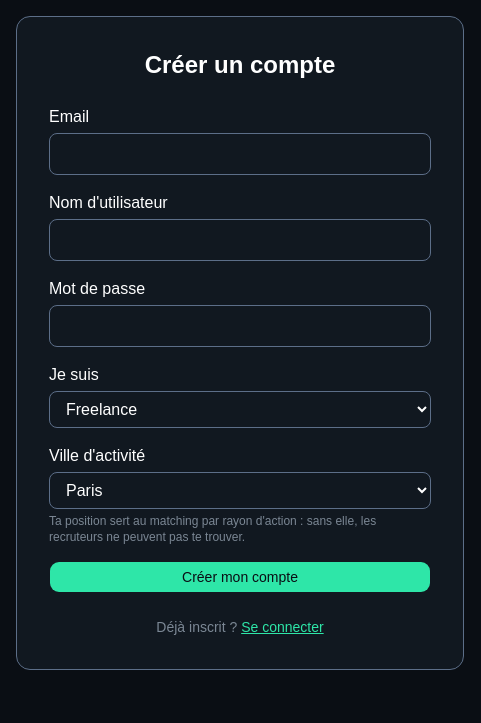
it: Écran d'inscription (SH-20) › affiche une erreur générique quand l'inscription échoue, sans tenter de login
The width and height of the screenshot is (481, 723).
In the field labelled "Email": (240, 154) 49,133 -> 431,175, type "nouvelle@skillhunt.io"
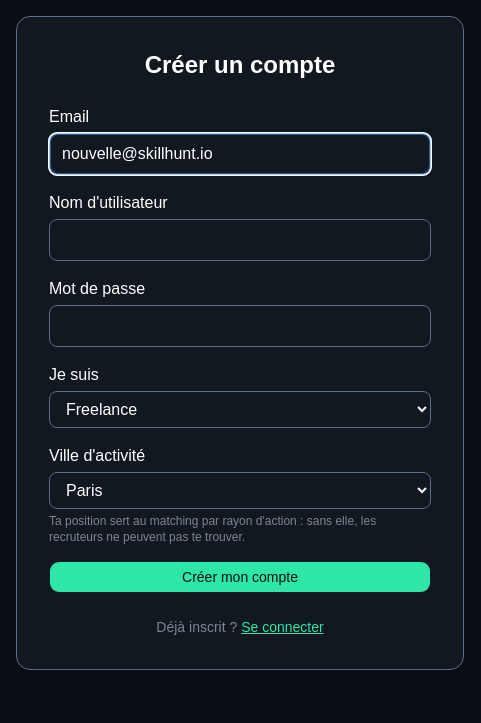
In the field labelled "Nom d'utilisateur": (240, 240) 49,219 -> 431,261, type "nouvelle-pilote"
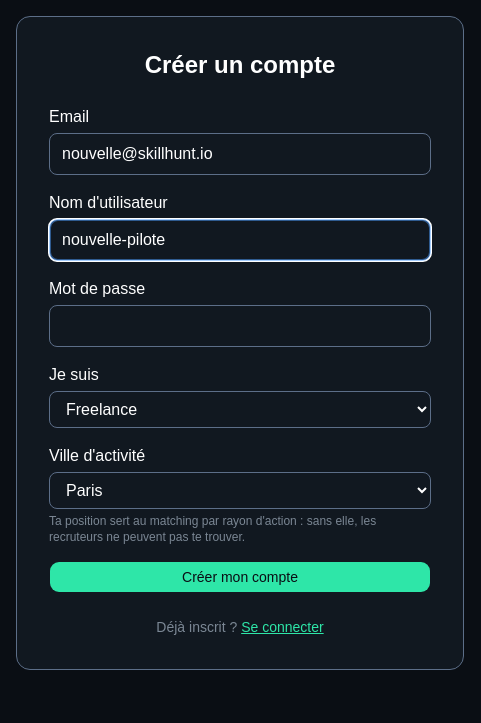
In the password field labelled "Mot de passe": (240, 326) 49,305 -> 431,347, type "motdepasse8"
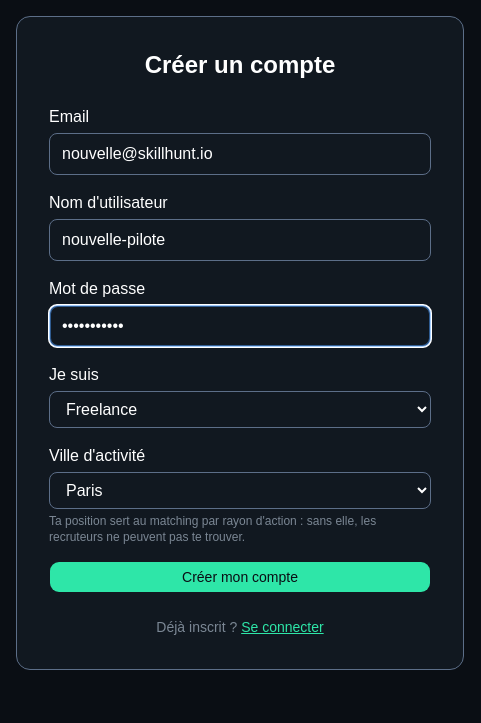
Click the button "Créer mon compte": (240, 577) 49,561 -> 431,593
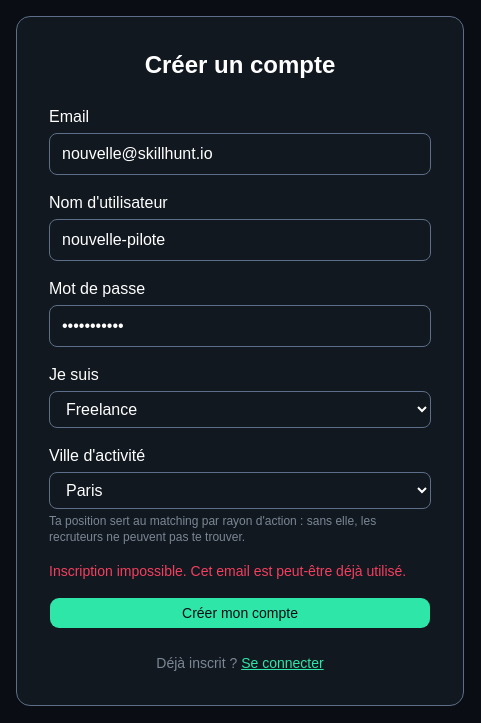
Now the message reads "Inscription impossible. Cet email est peut-être déjà utilisé.", box 49,563 -> 406,579
